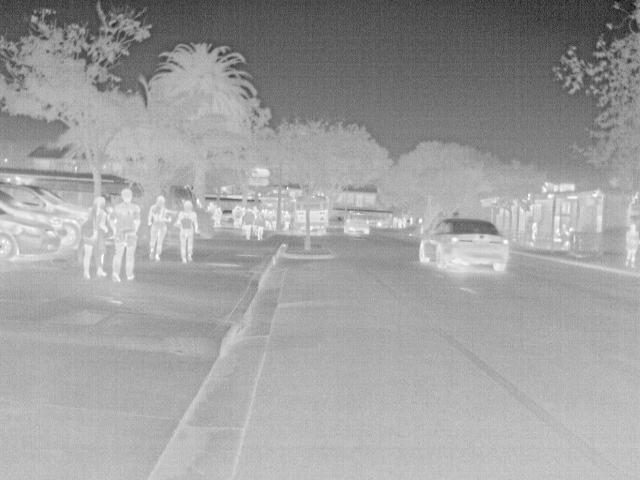car: (4, 180, 88, 252), (417, 217, 509, 274), (1, 202, 60, 264), (342, 212, 373, 236), (221, 209, 236, 224)
person: (111, 188, 142, 282), (79, 192, 111, 280), (148, 192, 171, 262), (175, 200, 197, 260), (622, 220, 640, 268), (239, 205, 256, 240), (252, 209, 268, 243), (528, 220, 540, 241), (211, 207, 224, 226), (552, 227, 565, 243), (283, 210, 292, 232), (393, 214, 400, 228), (402, 214, 408, 230), (397, 218, 404, 230)
